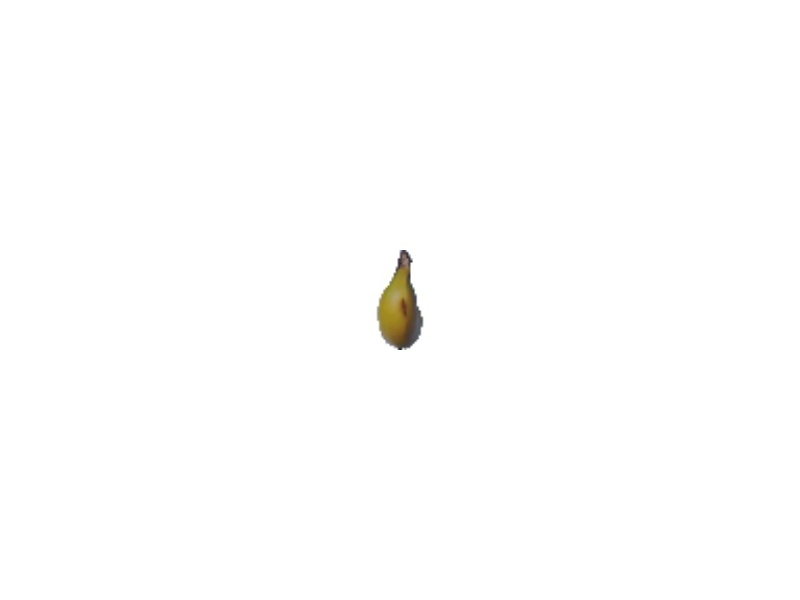banana: (377, 246, 426, 350)
